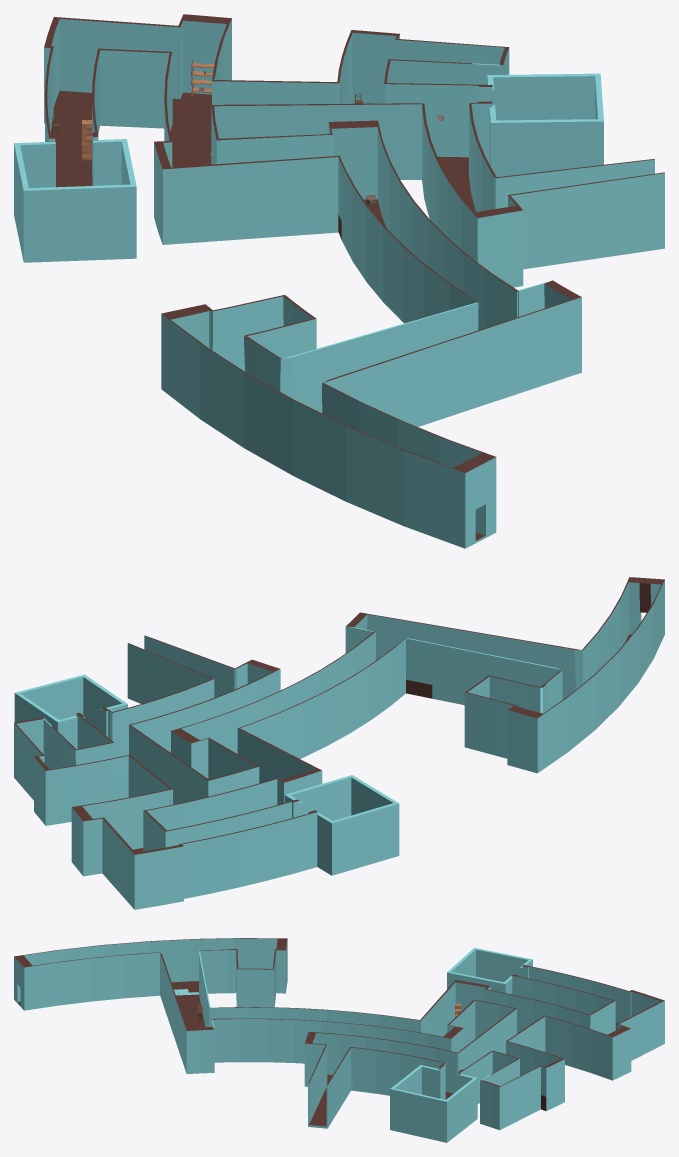
Rendered from labyrinth_mit_zeug.fbx.
The picture shows the model from 3 angles, top to bottom: view 1: azimuth 30°, elevation 25°; view 2: azimuth 150°, elevation 25°; view 3: azimuth 270°, elevation 25°; orthographic projection. The views are drawn at different scales.
Parts seen in each view (by area): view 1: Maze; view 2: Maze; view 3: Maze.
Boxes of the visible parts, x1,y1,x2,y2 form: Maze: (14, 14, 664, 548); Maze: (14, 577, 664, 909); Maze: (14, 938, 664, 1142).
Bounding box in the file's own units: 40.6 × 5.09 × 69.05.
